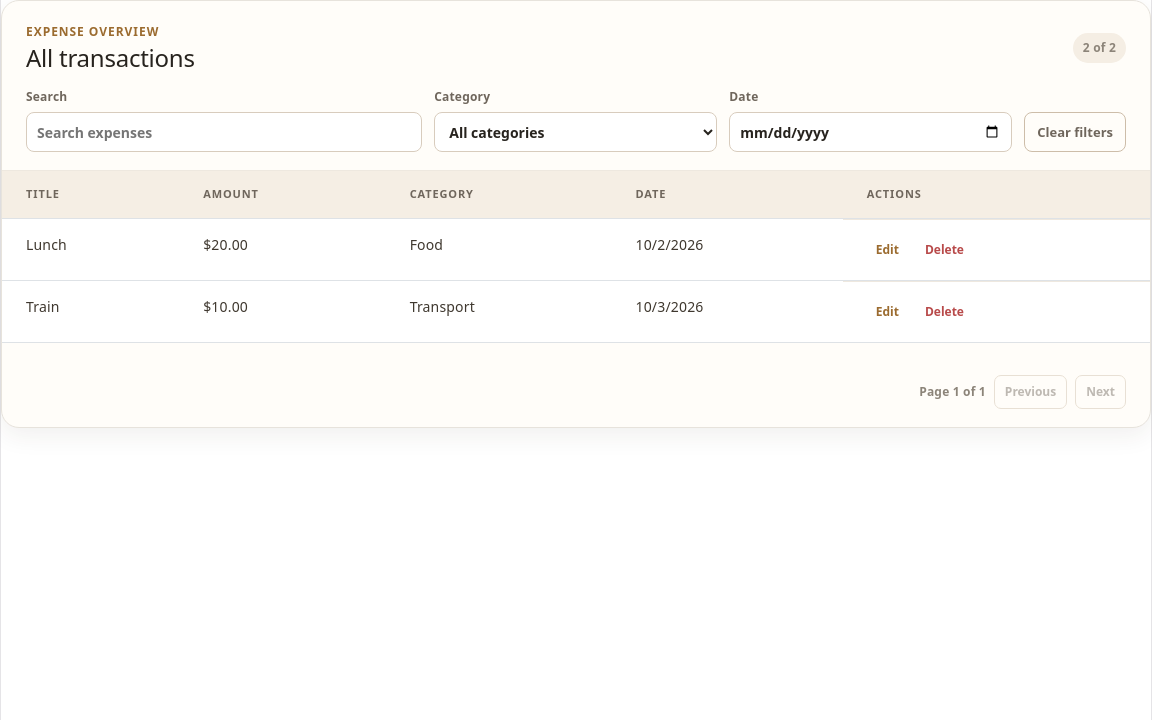
Test case: ExpenseTable › filters expenses by search and category
The width and height of the screenshot is (1152, 720).
Type "train" into the search field labelled "Search" at point(224, 132), box [26,112,422,152]
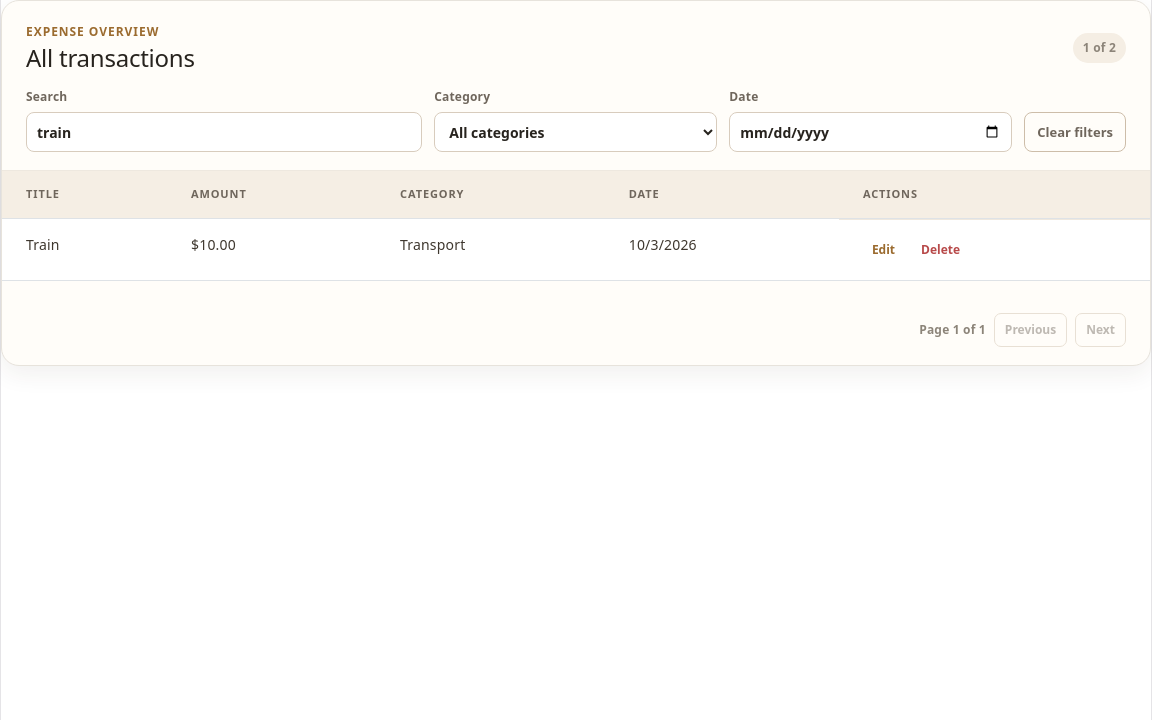
Check: the text "Train" is shown, box [2,218,167,281]
Check: the text "Lunch" is gone
Click the button "Clear filters" at point(1075, 132), box [1024,112,1126,152]
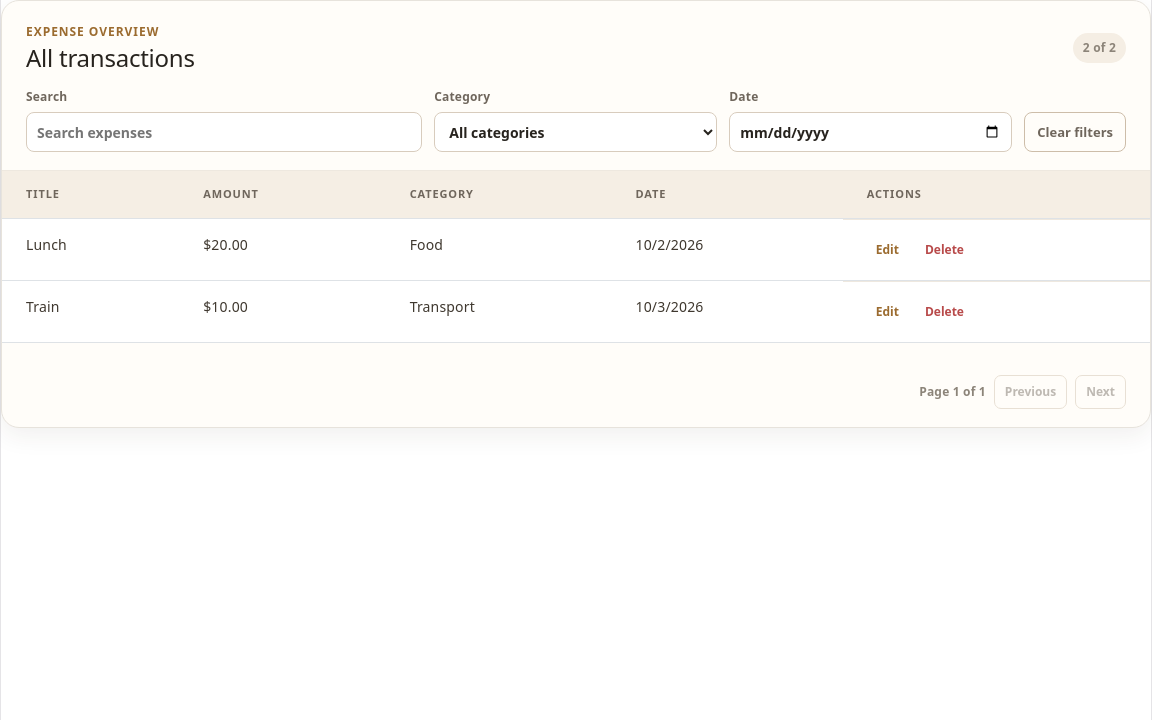
Select "Food" in the dropdown labelled "Category" at point(576, 132), box [434,112,717,152]
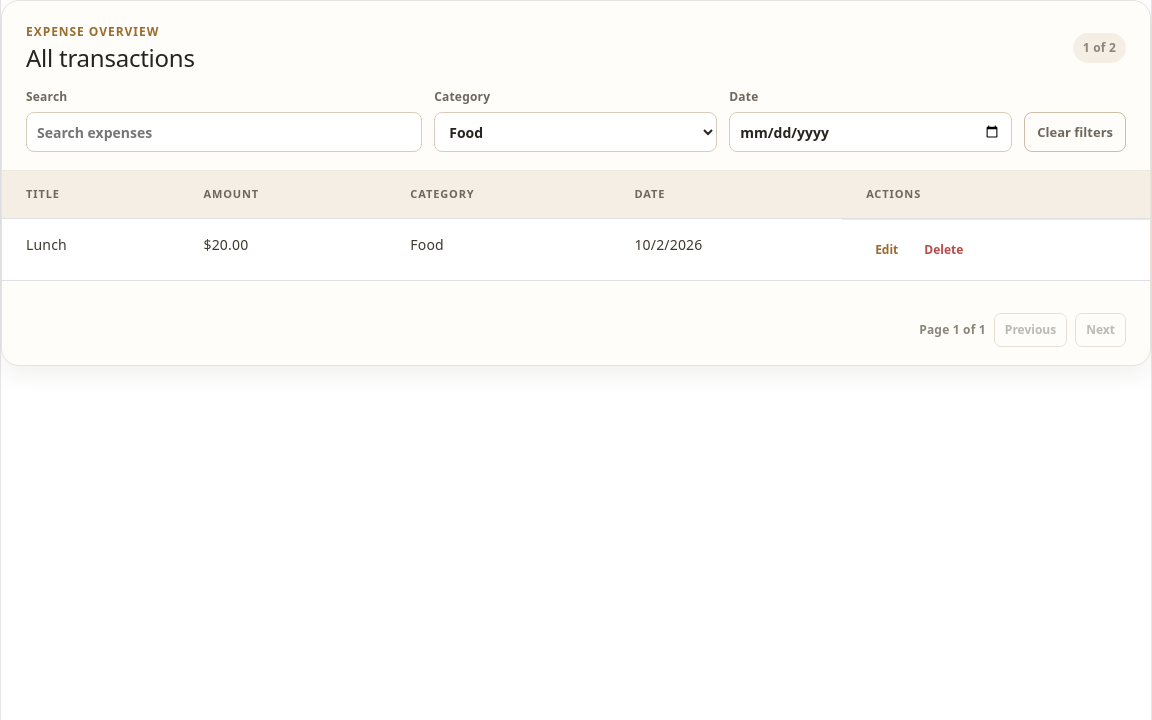
Check: the text "Lunch" is shown, box [2,218,180,281]
Check: the text "Train" is gone
